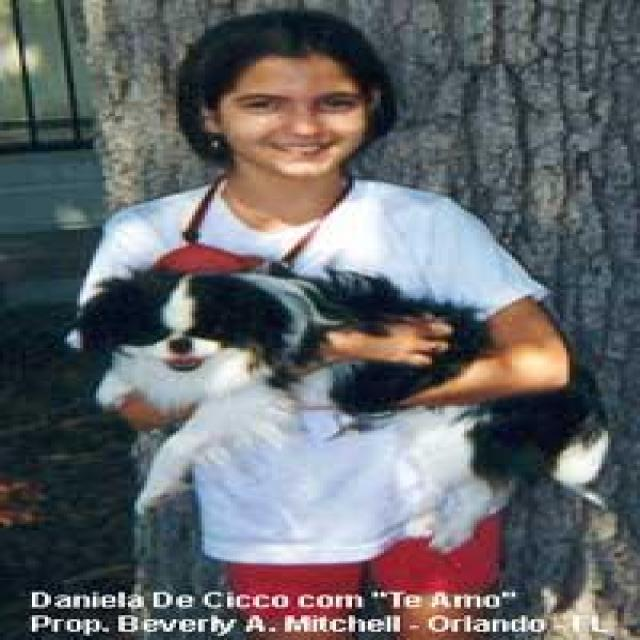husky: (54, 240, 630, 559)
